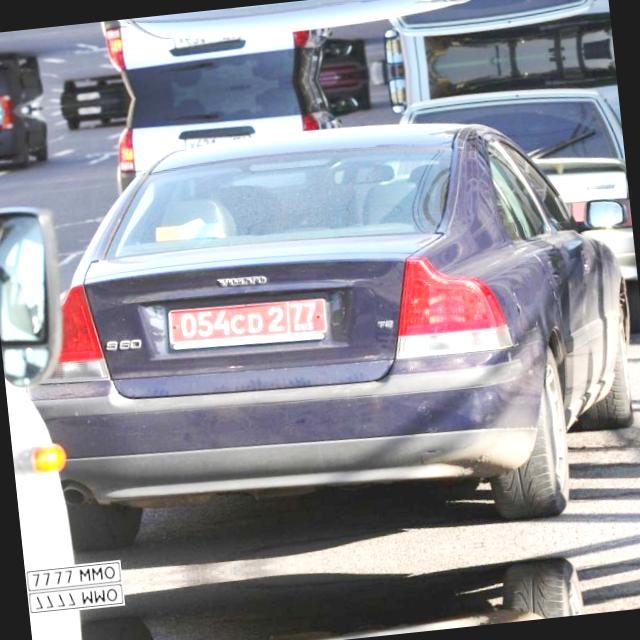diplomatic: (154, 288, 334, 364)
